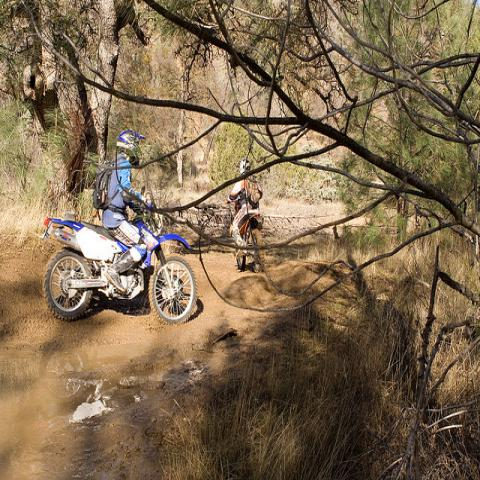motorcycle: (39, 202, 198, 327)
